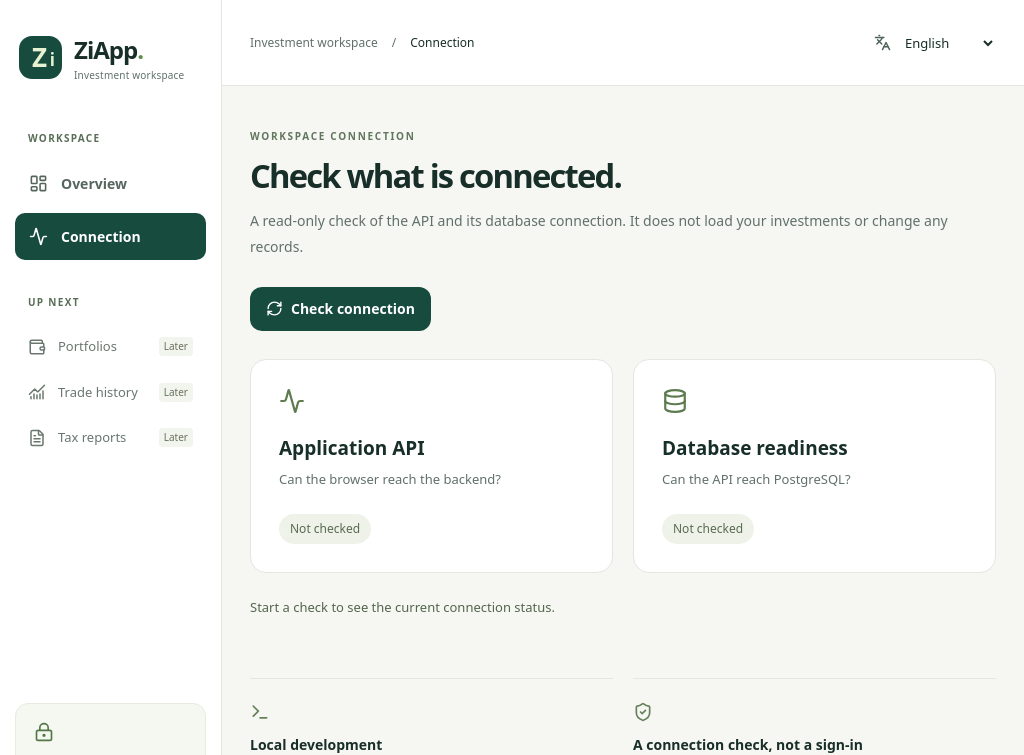
app foundation › distinguishes database failure from API liveness
The width and height of the screenshot is (1024, 755).
Click the button "Check connection" at (340,309), box [250, 287, 431, 331]
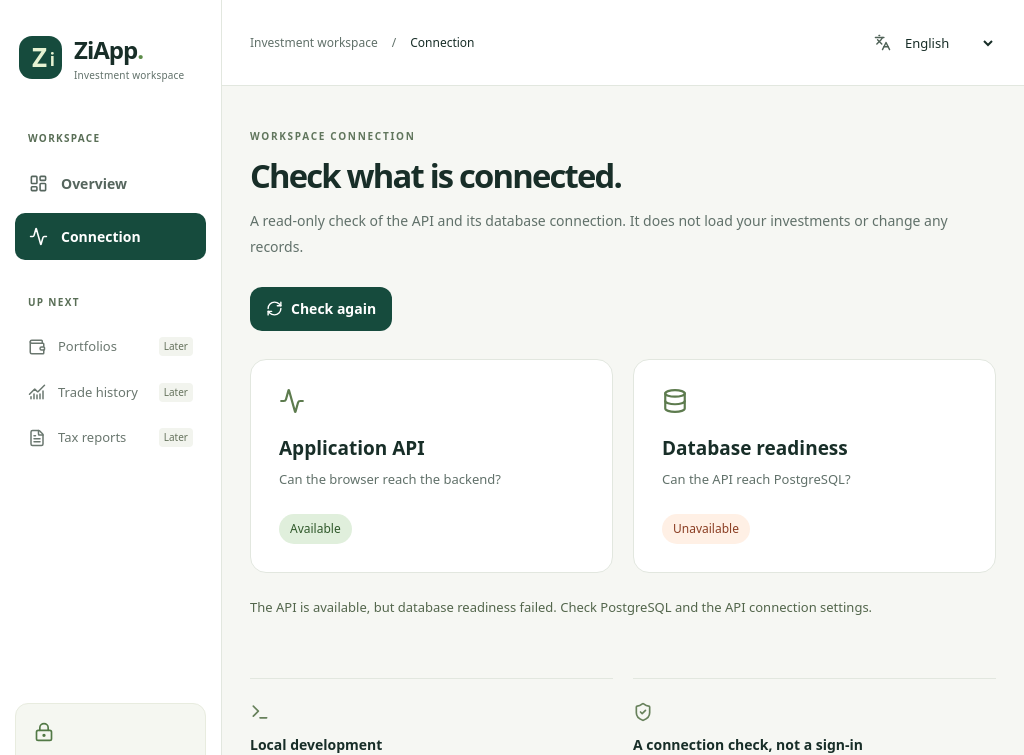
Expected: the message shows "database readiness failed", [250, 598, 872, 616]
